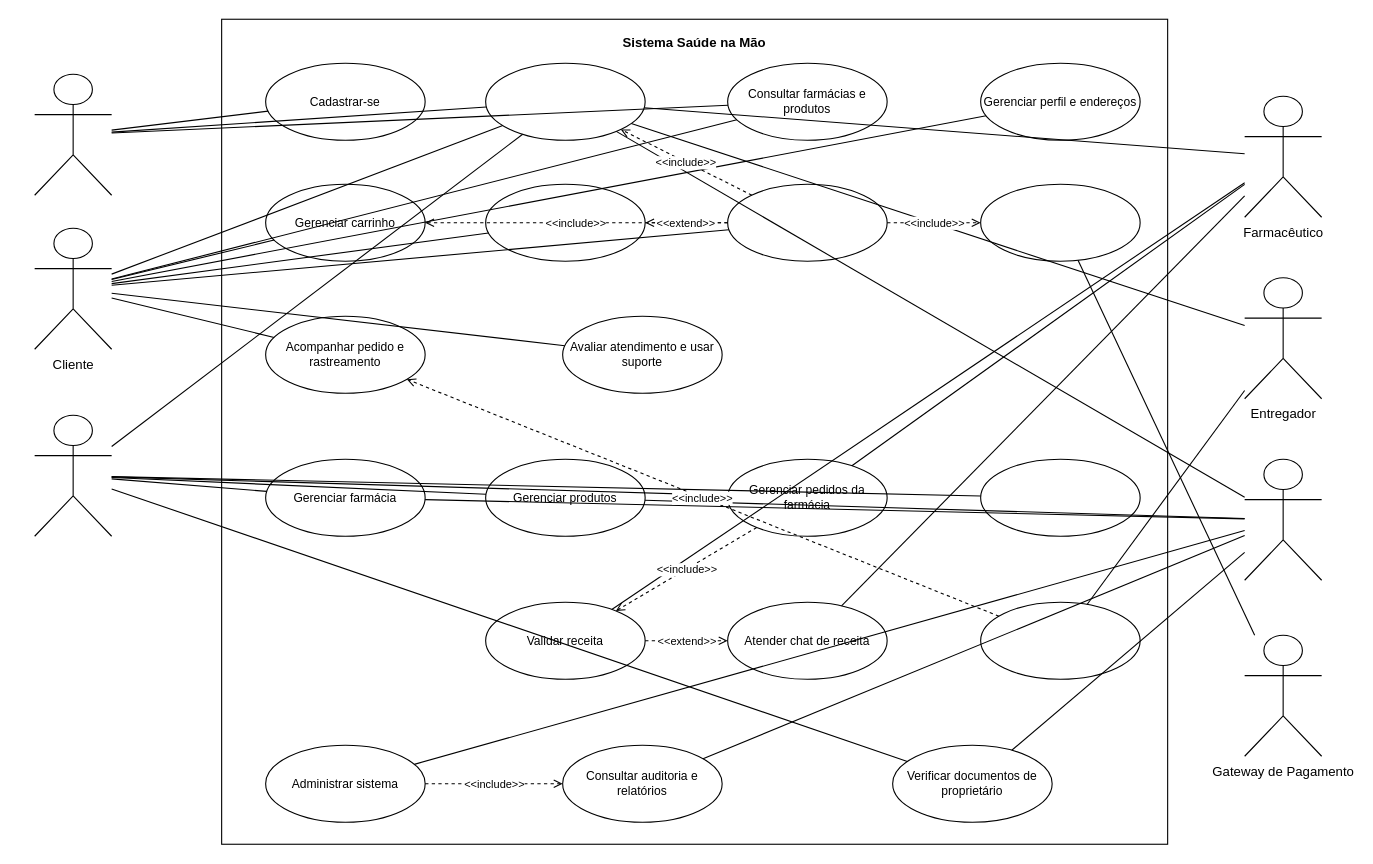
Some shapes in this 1373 by 864 pixel diagram are drawn without their labels. The shapes that lost their labels are listed below. From the top down, each one's centre as x and y in pixels, then its label:
At point 565,101: "Autenticar-se".
At point 73,134: "Visitante".
At point 565,222: "Enviar receita".
At point 807,222: "Finalizar compra".
At point 1060,222: "Efetuar pagamento".
At point 73,475: "Dono de Farmácia".
At point 1060,497: "Analisar vendas".
At point 1283,519: "Administrador".
At point 1060,640: "Aceitar e atualizar entrega".
